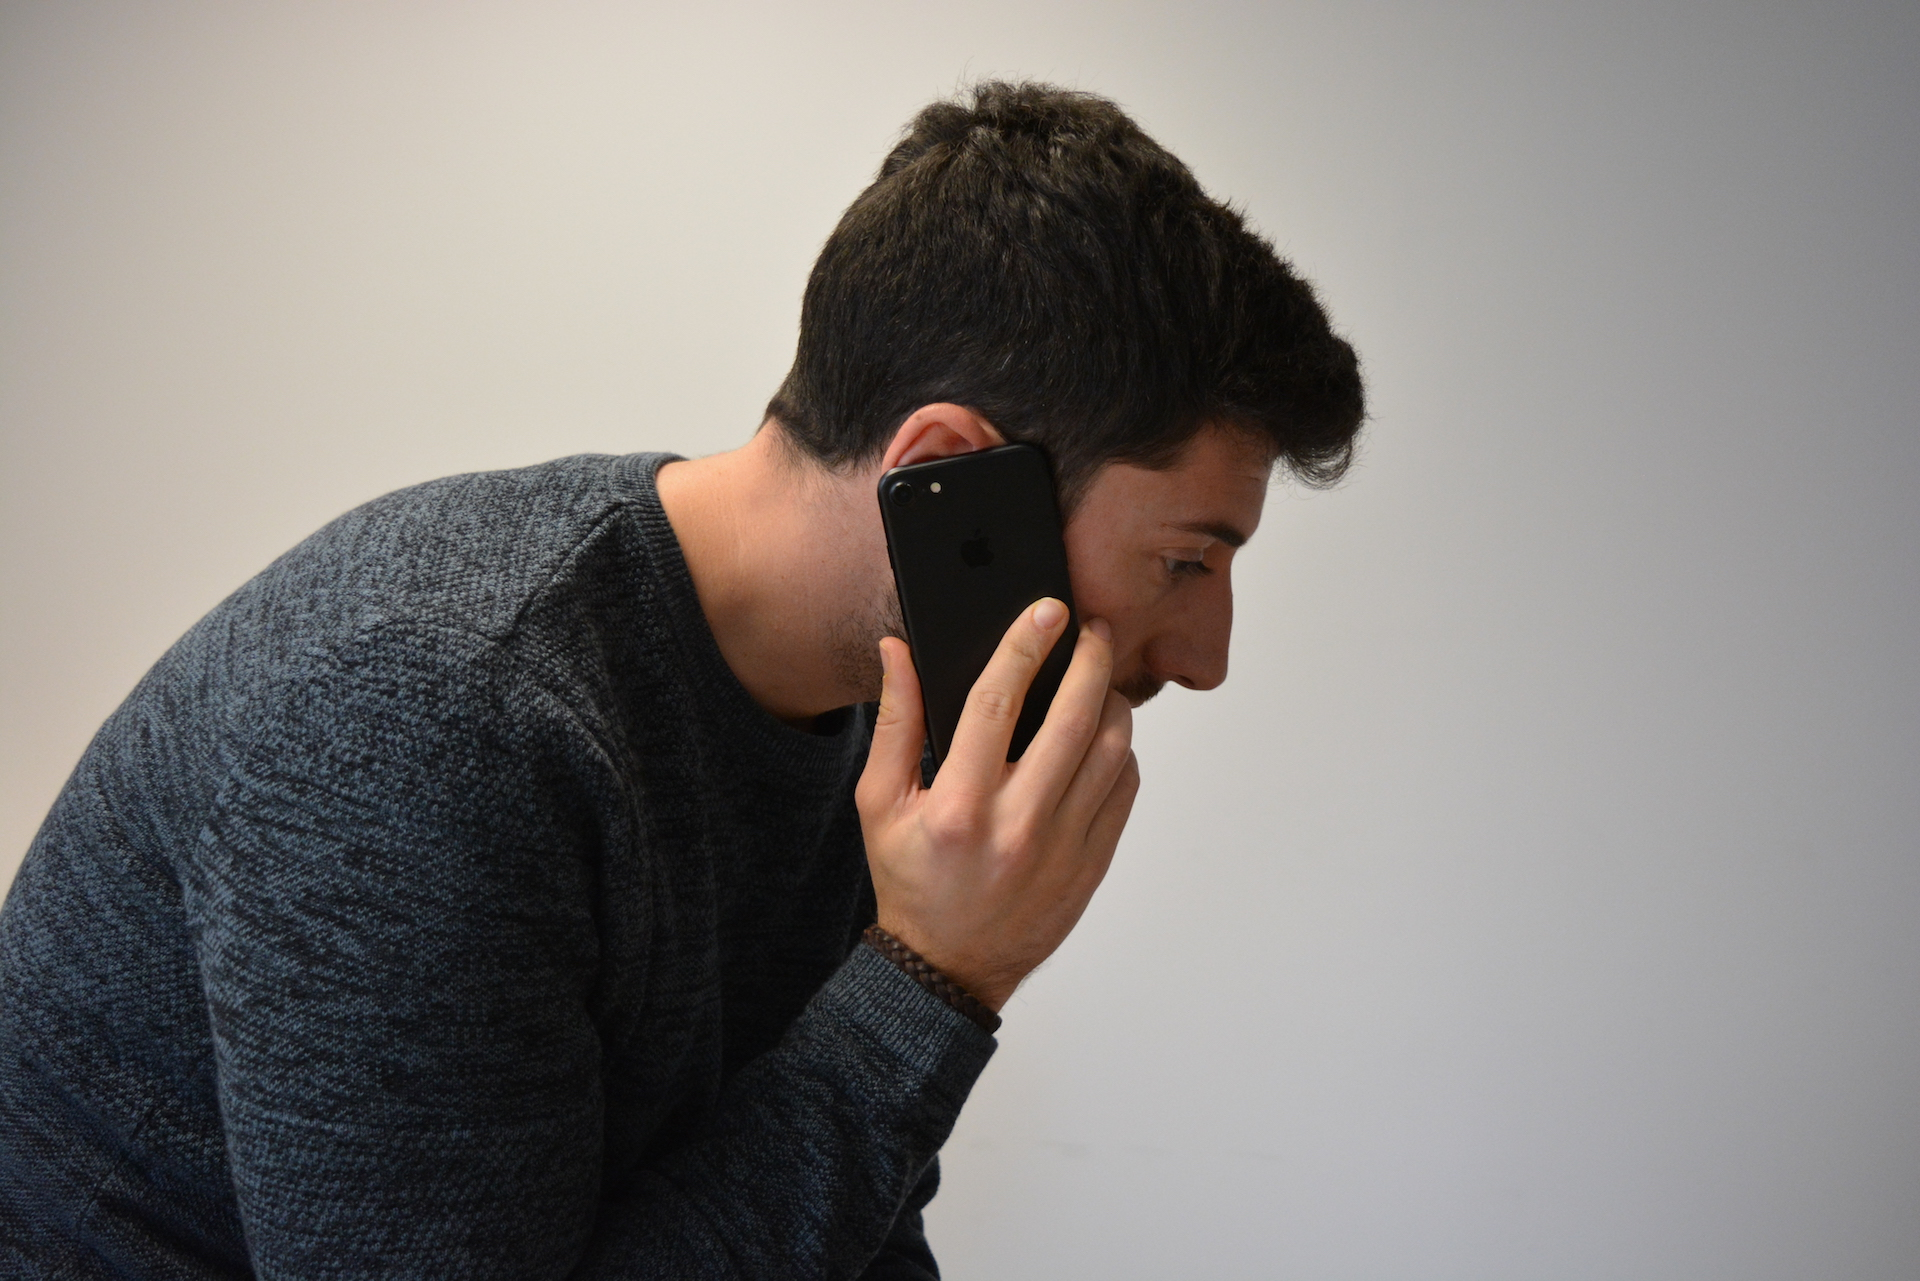smartphone: (874, 439, 1084, 782)
